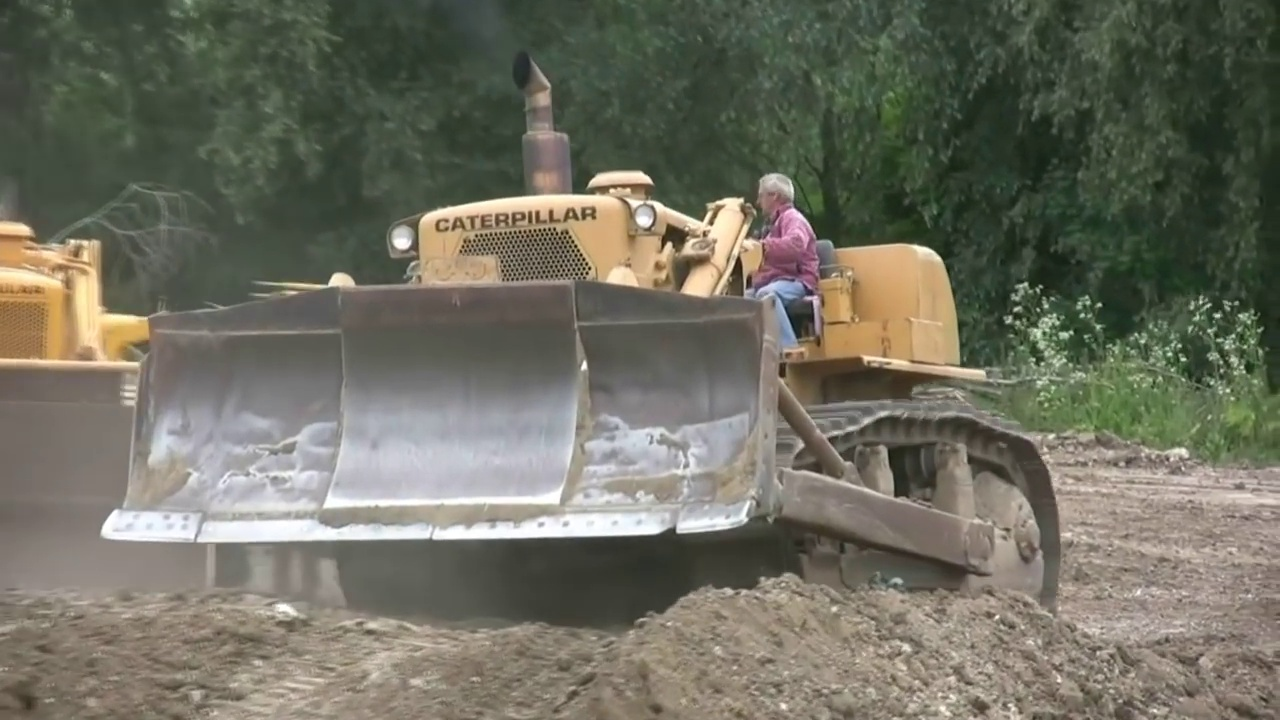bulldozer: (100, 50, 1063, 645), (1, 218, 207, 612)
person: (748, 166, 824, 361)
